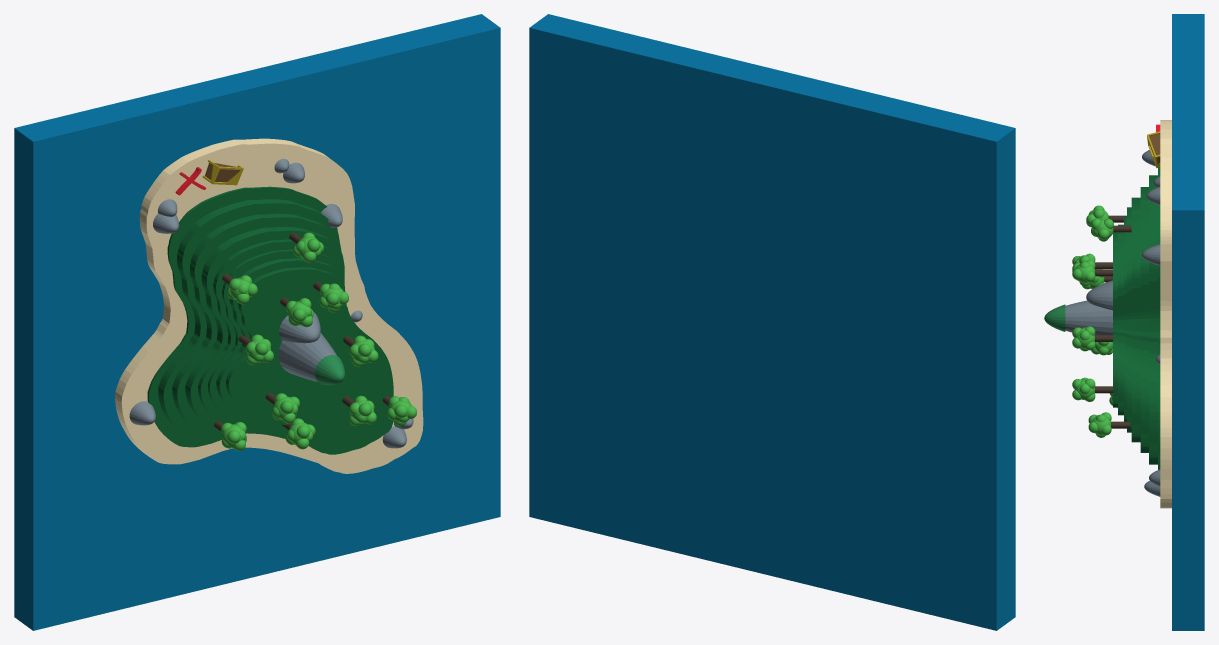
Rendered from tinker.obj.
The picture shows the model from 3 angles, left to right: view 1: azimuth 30°, elevation 25°; view 2: azimuth 150°, elevation 25°; view 3: azimuth 270°, elevation 25°; orthographic projection. The views are drawn at different scales.
Parts seen in each view (by area): view 1: group_0_30377, group_0_1206582, group_0_16311991, group_0_4634441, group_0_7636369, group_0_4668208, group_0_2722129; view 2: group_0_30377; view 3: group_0_30377, group_0_1206582, group_0_16311991, group_0_4634441, group_0_7636369, group_0_4668208, group_0_2722129.
Boxes of the visible parts, bbox=[...] form: group_0_30377: bbox=[14, 14, 500, 630]; group_0_1206582: bbox=[147, 186, 393, 454]; group_0_16311991: bbox=[115, 138, 423, 473]; group_0_4634441: bbox=[221, 232, 416, 450]; group_0_7636369: bbox=[129, 158, 413, 448]; group_0_4668208: bbox=[214, 232, 390, 431]; group_0_2722129: bbox=[315, 355, 345, 385]; group_0_30377: bbox=[529, 14, 1015, 630]; group_0_30377: bbox=[1172, 14, 1204, 630]; group_0_1206582: bbox=[1113, 167, 1160, 469]; group_0_16311991: bbox=[1160, 120, 1171, 508]; group_0_4634441: bbox=[1072, 205, 1117, 437]; group_0_7636369: bbox=[1065, 150, 1160, 496]; group_0_4668208: bbox=[1095, 215, 1131, 428]; group_0_2722129: bbox=[1044, 304, 1065, 331].
Size of the model in its own units: 200 by 200 by 69.
